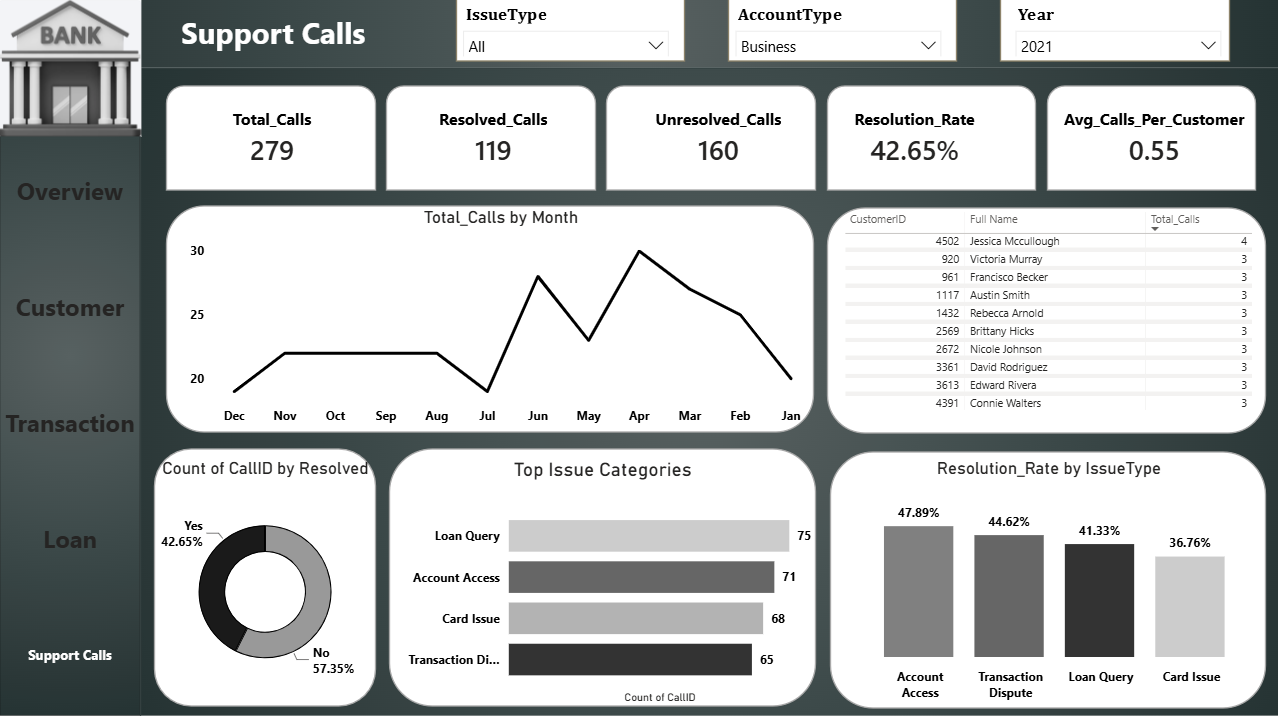

What the dashboard file says about the page in this screenshot:
{"tool":"powerbi","page":{"name":"Support Calls","canvas":[1280,720],"ordinal":4},"visuals":[{"type":"cardVisual","fields":{"Data":["SupportCalls.Total_Calls"]},"box":[175,96.2,196.2,85],"z":0},{"type":"cardVisual","fields":{"Data":["SupportCalls.Resolved_Calls"]},"box":[396.2,96.2,196.2,85],"z":1000},{"type":"cardVisual","fields":{"Data":["SupportCalls.Unresolved_Calls"]},"box":[621.2,96.2,196.2,85],"z":2000},{"type":"cardVisual","fields":{"Data":["SupportCalls.Resolution_Rate"]},"box":[817.5,96.2,196.2,85],"z":3000},{"type":"cardVisual","fields":{"Data":["SupportCalls.Avg_Calls_Per_Customer"]},"box":[1031.2,96.2,248.8,85],"z":4000},{"type":"barChart","title":"Top Issue Categories","fields":{"Category":["SupportCalls.IssueType"],"Y":["CountNonNull(SupportCalls.CallID)"]},"box":[390,460,427.5,250],"z":5000},{"type":"donutChart","fields":{"Category":["SupportCalls.Resolved"],"Y":["CountNonNull(SupportCalls.CallID)"]},"box":[151.2,460,230,237.5],"z":6000},{"type":"columnChart","fields":{"Category":["SupportCalls.IssueType"],"Y":["SupportCalls.Resolution_Rate"]},"box":[830,460,440,250],"z":7000},{"type":"lineChart","title":"Total_Calls by Month","fields":{"Category":["Calender.Month_Name"],"Y":["SupportCalls.Total_Calls"]},"box":[186.2,208.8,631.2,227.5],"z":8000},{"type":"tableEx","fields":{"Values":["SupportCalls.CustomerID","customers.Full Name","SupportCalls.Total_Calls"]},"box":[840,208.8,420,216.2],"z":9000},{"type":"slicer","fields":{"Values":["Calender.Year"]},"box":[1006.2,0,226.2,58.8],"z":9001},{"type":"slicer","fields":{"Values":["Accounts.AccountType"]},"box":[726.2,0,226.2,58.8],"z":9002},{"type":"slicer","fields":{"Values":["SupportCalls.IssueType"]},"box":[453.8,0,226.2,58.8],"z":9003},{"type":"pageNavigator","box":[0,140,142.5,570],"z":9004},{"type":"image","box":[0,0,142.5,140],"z":9005},{"type":"shape","box":[162.5,0,223.8,67.5],"z":9006}]}

Visuals, with their boxes in screenshot pixels (x1, y1, x2, y2), scaled from the page's 1280x720 canvas onto the 1278x716 screenshot:
cardVisual - SupportCalls.Total_Calls: BBox(175, 96, 371, 180)
cardVisual - SupportCalls.Resolved_Calls: BBox(396, 96, 591, 180)
cardVisual - SupportCalls.Unresolved_Calls: BBox(620, 96, 816, 180)
cardVisual - SupportCalls.Resolution_Rate: BBox(816, 96, 1012, 180)
cardVisual - SupportCalls.Avg_Calls_Per_Customer: BBox(1030, 96, 1277, 180)
"Top Issue Categories" barChart: BBox(389, 457, 816, 706)
donutChart - SupportCalls.Resolved x CountNonNull(SupportCalls.CallID): BBox(151, 457, 381, 694)
columnChart - SupportCalls.IssueType x SupportCalls.Resolution_Rate: BBox(829, 457, 1268, 706)
"Total_Calls by Month" lineChart: BBox(186, 208, 816, 434)
tableEx - SupportCalls.CustomerID x customers.Full Name: BBox(839, 208, 1258, 423)
slicer - Calender.Year: BBox(1005, 0, 1230, 58)
slicer - Accounts.AccountType: BBox(725, 0, 951, 58)
slicer - SupportCalls.IssueType: BBox(453, 0, 679, 58)
pageNavigator: BBox(0, 139, 142, 706)
image: BBox(0, 0, 142, 139)
shape: BBox(162, 0, 386, 67)
